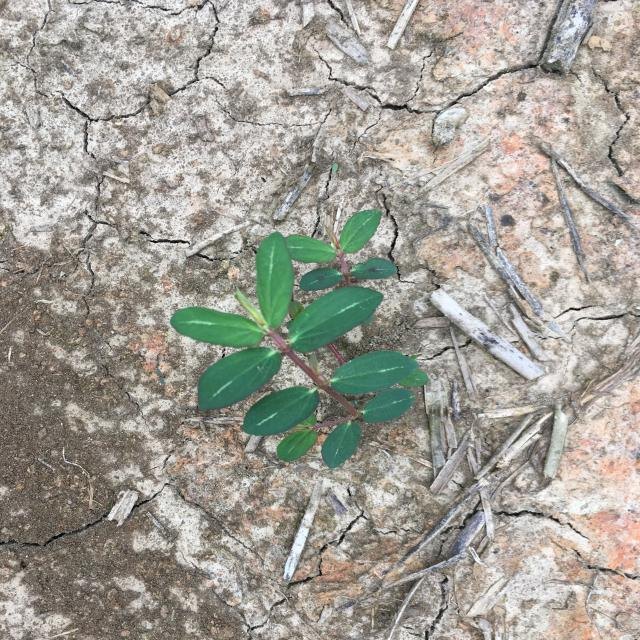SpottedSpurge: (170, 209, 430, 470)
